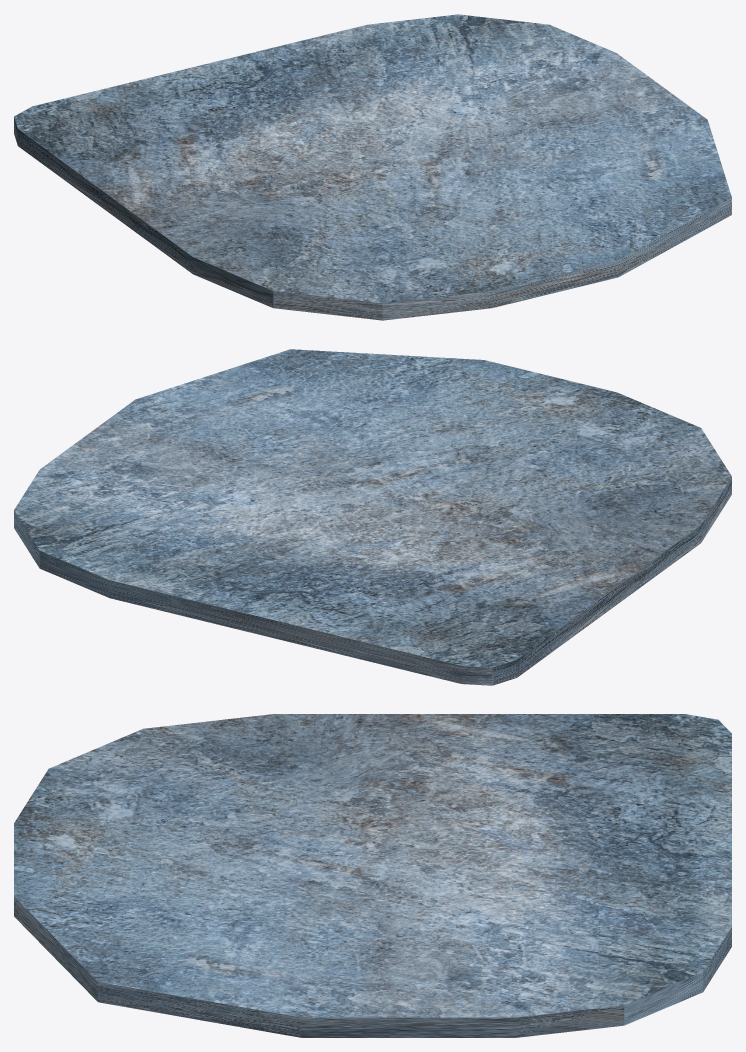
The model's file is lavatrastesPuertaD.obj.
3 renders of one model, top to bottom at view 1: azimuth 30°, elevation 25°; view 2: azimuth 150°, elevation 25°; view 3: azimuth 270°, elevation 25°, orthographic. The views are drawn at different scales.
Parts seen in each view (by area): view 1: pasted__pCube10 group6; view 2: pasted__pCube10 group6; view 3: pasted__pCube10 group6.
Boxes of the visible parts, box(x1,y1,x2,y2) form: pasted__pCube10 group6: box(14, 14, 731, 320); pasted__pCube10 group6: box(14, 349, 731, 685); pasted__pCube10 group6: box(14, 714, 731, 1037).
Bounding box in the file's own units: 5.14 × 0.1603 × 5.14.
Materials: 1 (1 with a texture image).
